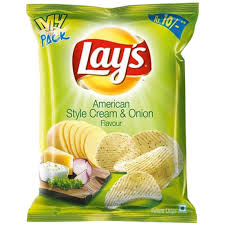lays-small: (25, 2, 193, 225)
